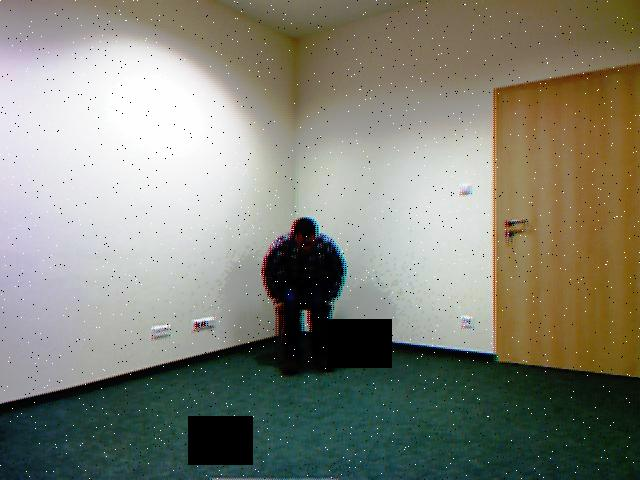bending: (261, 212, 357, 382)
